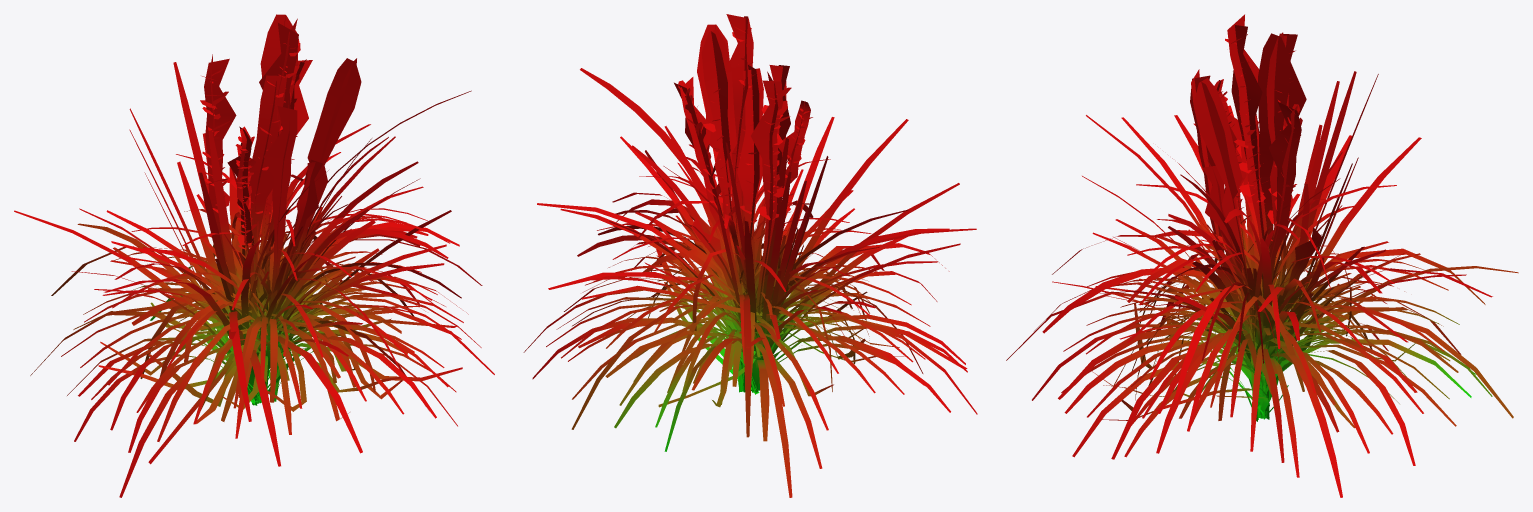
Rendered from Var2_LOD2.fbx.
The picture shows the model from 3 angles, left to right: view 1: azimuth 30°, elevation 25°; view 2: azimuth 150°, elevation 25°; view 3: azimuth 270°, elevation 25°; orthographic projection. The views are drawn at different scales.
Parts seen in each view (by area): view 1: _5f75_Var2_LOD2; view 2: _5f75_Var2_LOD2; view 3: _5f75_Var2_LOD2.
Boxes of the visible parts, x1,y1,x2,y2 form: _5f75_Var2_LOD2: (14, 14, 494, 497); _5f75_Var2_LOD2: (523, 14, 977, 497); _5f75_Var2_LOD2: (1006, 14, 1518, 497).
Size of the model in its own units: 46.1 by 43.29 by 47.77.
